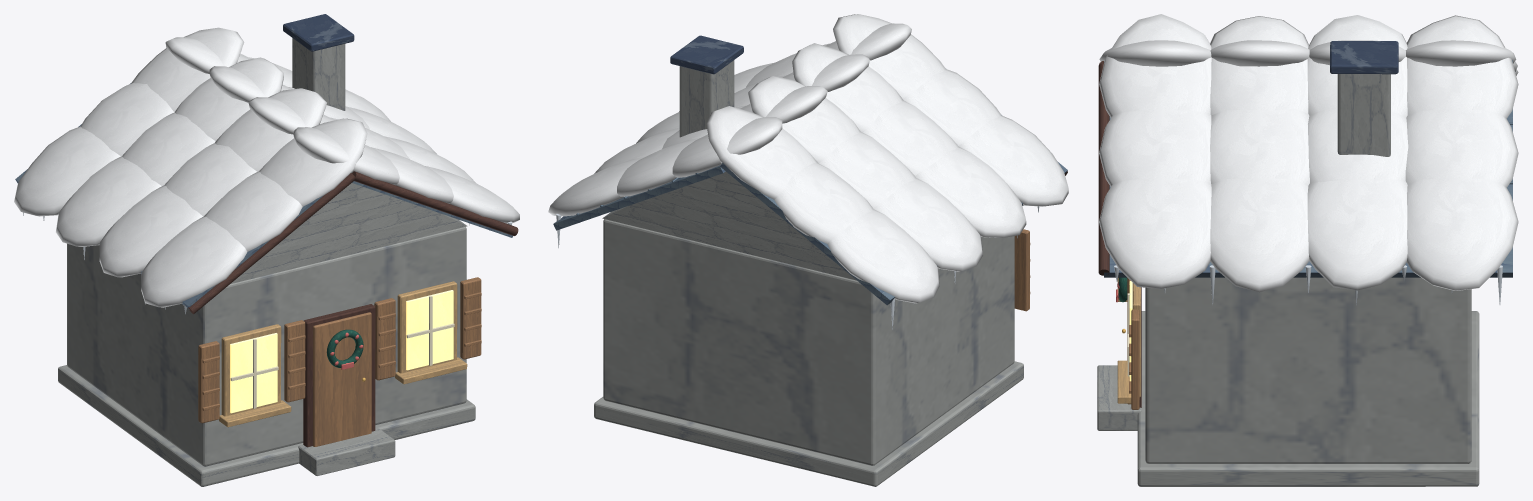
File: house_3.glb
3 views of the same model, side by side, from view 1: azimuth 30°, elevation 25°; view 2: azimuth 150°, elevation 25°; view 3: azimuth 270°, elevation 25° (orthographic). The views are drawn at different scales.
Visible parts, largest first — view 1: house_3; view 2: house_3; view 3: house_3.
Boxes of the visible parts, bbox=[...] form: house_3: bbox=[14, 14, 519, 486]; house_3: bbox=[548, 14, 1068, 486]; house_3: bbox=[1097, 14, 1518, 486].
Size of the model in its own units: 5.87 by 5.13 by 4.91.
3 materials, 3 textured.
